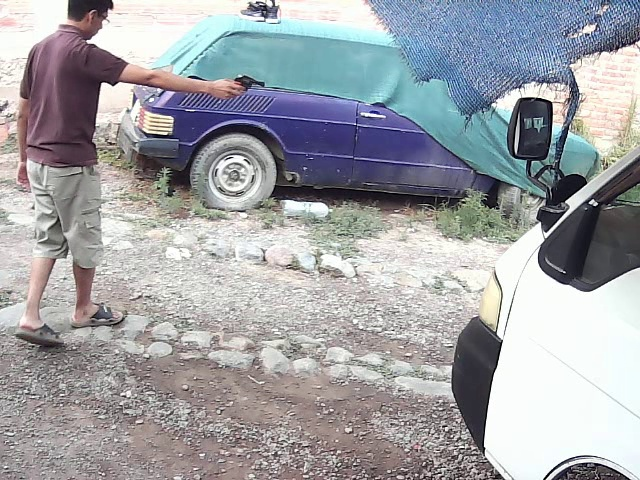pistola: (229, 69, 272, 94)
